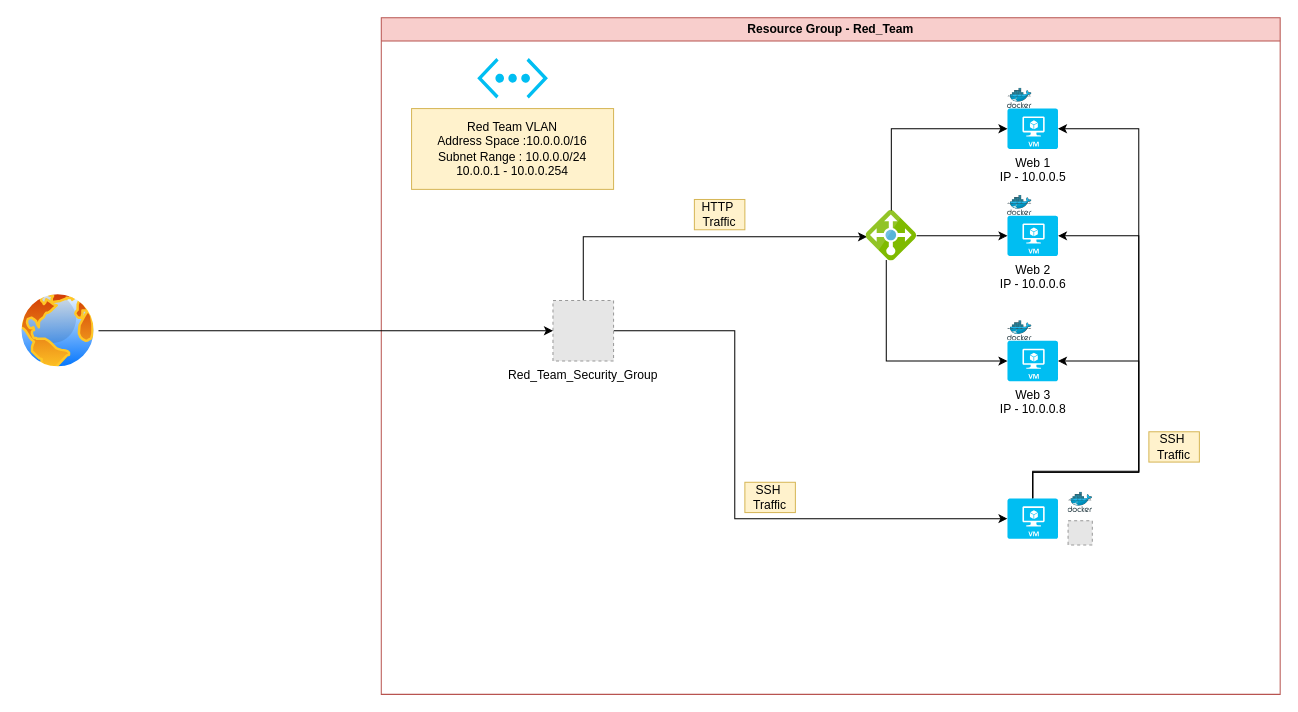
This 1298x712 diagram has some shape labels left out. Grey dashed boxes stand in for pictures. Each missing label, with the centre of its shape:
Internet: (x=57, y=330)
JumpBoxProvisioner Internal IP : 10.0.0.4 External IP: 104.42.121.165: (x=1032, y=518)
